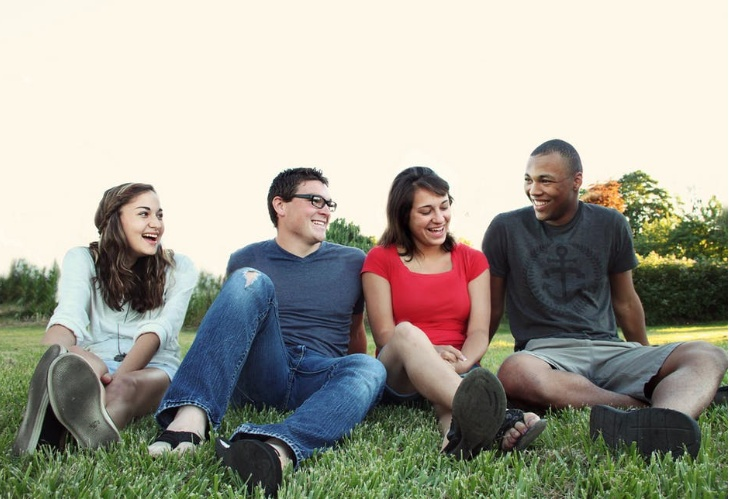face: (523, 154, 570, 221), (123, 191, 164, 255), (295, 180, 334, 244), (410, 190, 453, 246)
